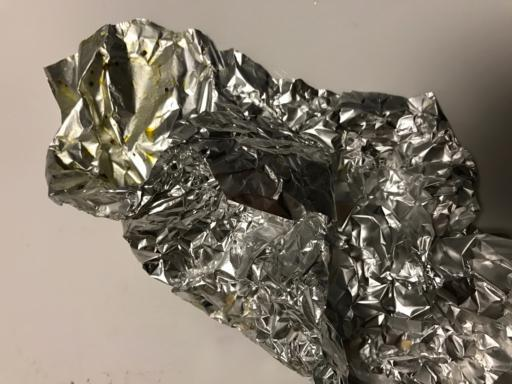metal: (32, 12, 512, 382)
